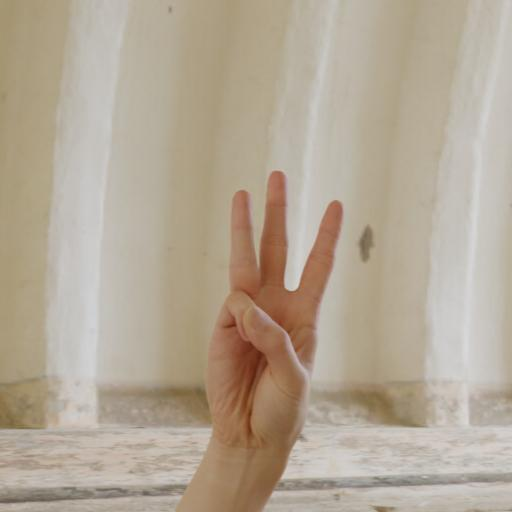W: (131, 137, 375, 467)
